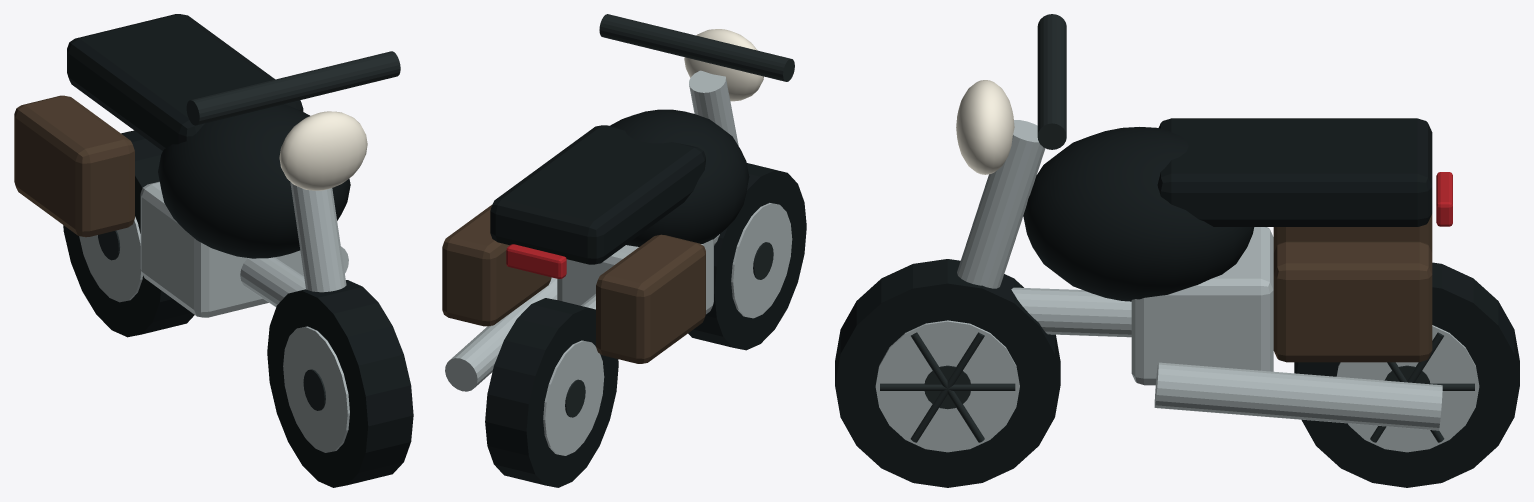
Rendered from better.glb.
3 views of the same model, side by side, from view 1: azimuth 30°, elevation 25°; view 2: azimuth 150°, elevation 25°; view 3: azimuth 270°, elevation 25° (orthographic). The views are drawn at different scales.
Visible parts, largest first — view 1: Fuel tank, Engine, Saddle bag, Handlebar, Headlight; view 2: Fuel tank, Saddle bag, Engine, Handlebar, Headlight, Rear light; view 3: Fuel tank, Engine, Saddle bag, Handlebar, Headlight, Rear light.
Boxes of the visible parts, <box> form: Fuel tank: <box>63,14,413,487</box>; Engine: <box>79,181,349,452</box>; Saddle bag: <box>14,95,134,237</box>; Handlebar: <box>98,51,400,410</box>; Headlight: <box>279,111,367,190</box>; Fuel tank: <box>485,109,806,487</box>; Saddle bag: <box>442,205,705,363</box>; Engine: <box>445,70,792,455</box>; Handlebar: <box>565,14,794,417</box>; Headlight: <box>684,29,763,101</box>; Rear light: <box>506,244,566,278</box>; Fuel tank: <box>835,118,1519,487</box>; Engine: <box>875,120,1479,452</box>; Saddle bag: <box>1273,214,1432,362</box>; Handlebar: <box>880,14,1474,442</box>; Headlight: <box>956,80,1014,174</box>; Rear light: <box>1436,172,1452,226</box>.
Size of the model in its own units: 0.4 by 0.6143 by 0.9371.
